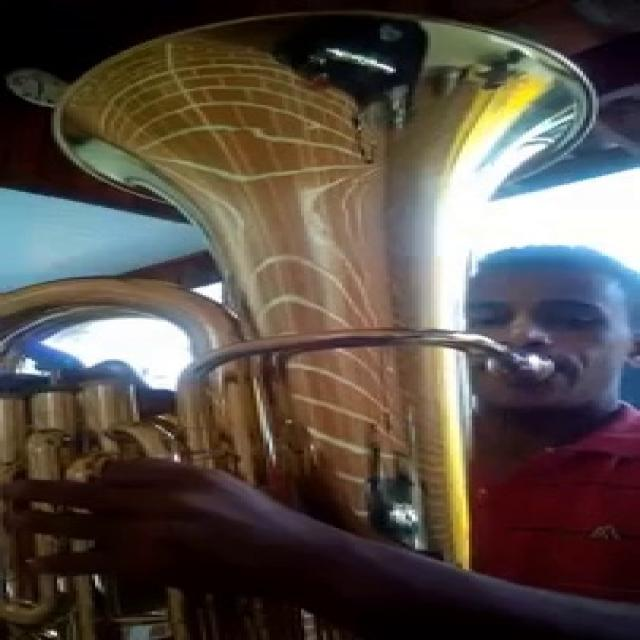Tuba: (0, 10, 609, 638)
